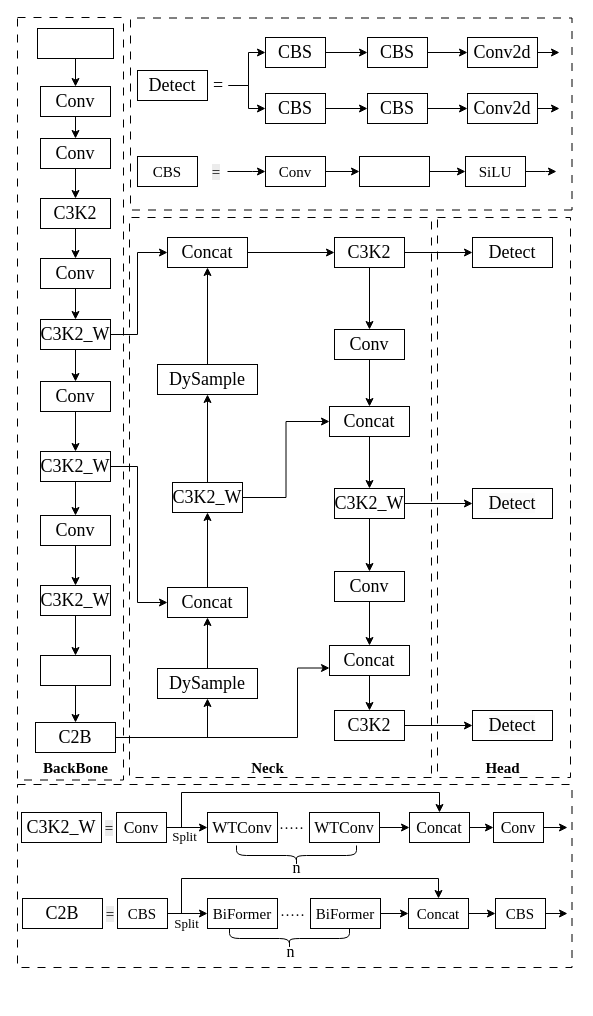
Some shapes in this 593 by 1016 pixel diagram are drawn without their labels. The box of each missing label's shape, as (x1, y1, x2, y2) in pixels:
BathNorm: (358, 156, 430, 186)
Input: (36, 28, 114, 58)
SPPF: (40, 654, 110, 686)
